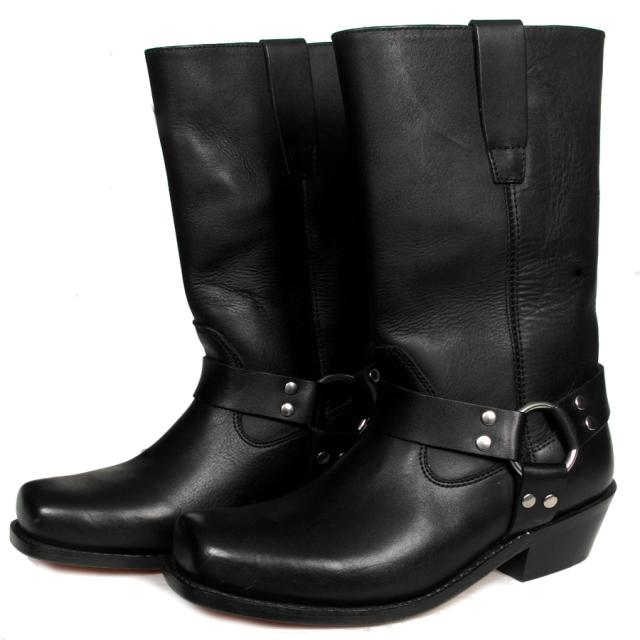boot: (185, 1, 626, 614), (15, 18, 324, 463)
